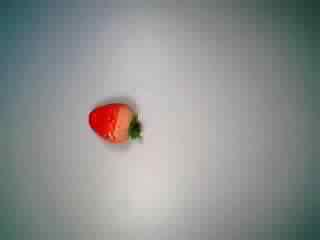strawberry: (82, 91, 150, 155)
